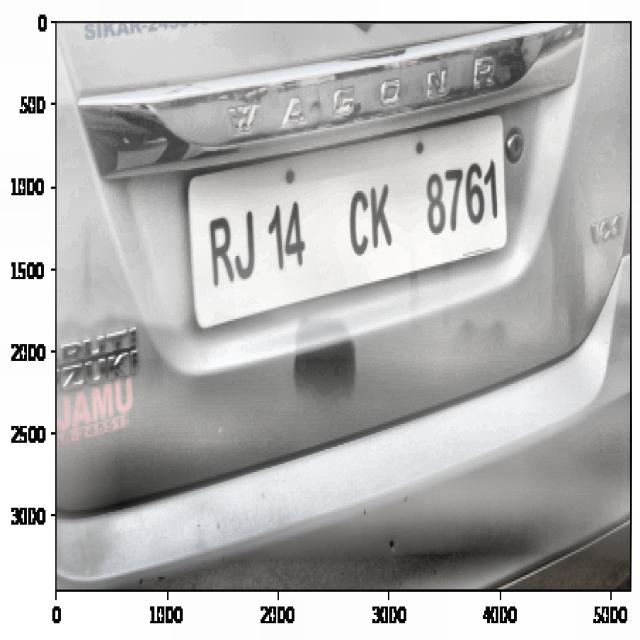license_plate: (203, 148, 507, 290)
